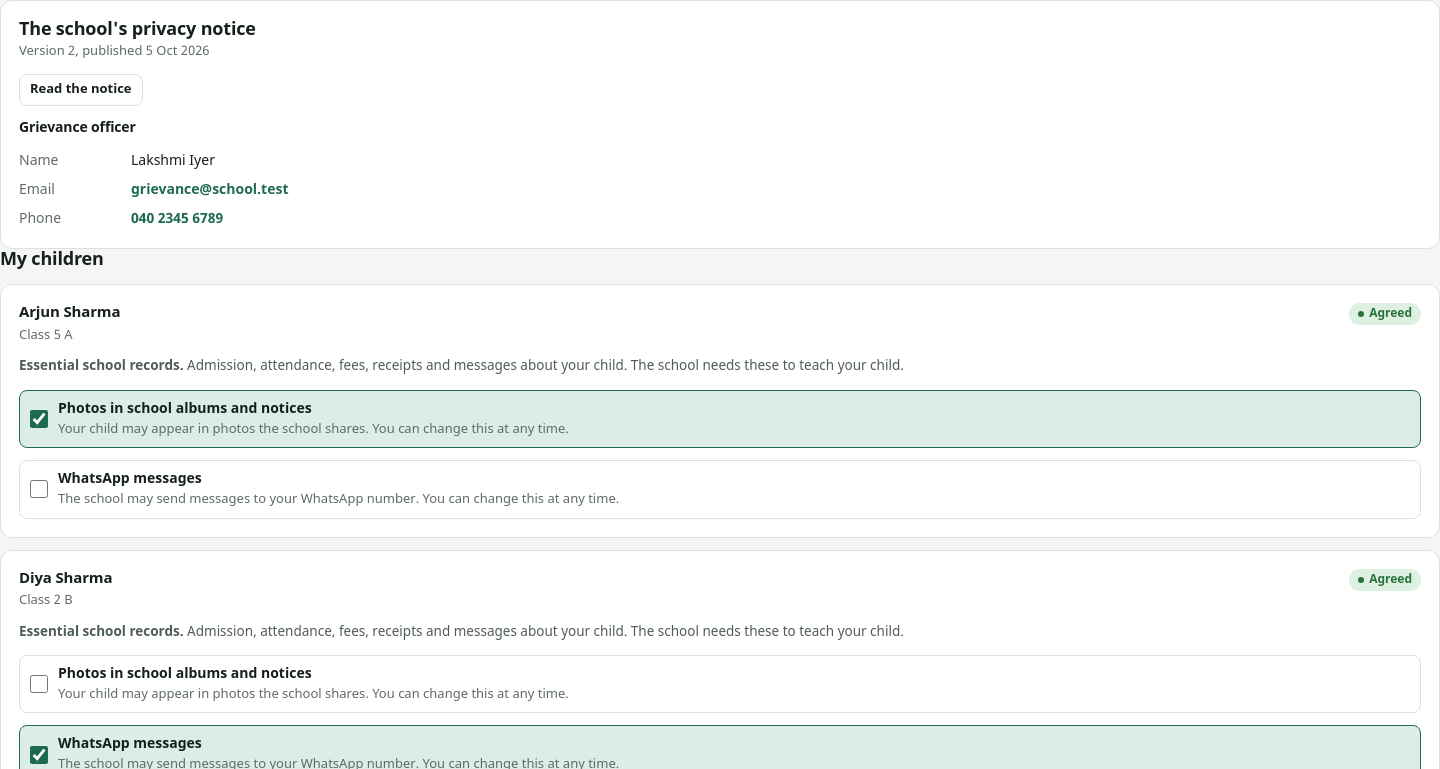
Test: MyPrivacyView › shows each child's choices and lets the parent withdraw one
Expected: the text "Agreed" in the row of "Arjun Sharma" is shown, 1369,306 -> 1412,322
Expected: the checkbox labelled "WhatsApp" below "Class 5 A" is not checked, 30,480 -> 48,498
Click the checkbox labelled "Photos in school albums" below "Class 5 A" at (39, 419), box 30,410 -> 48,428
(page scrolled)
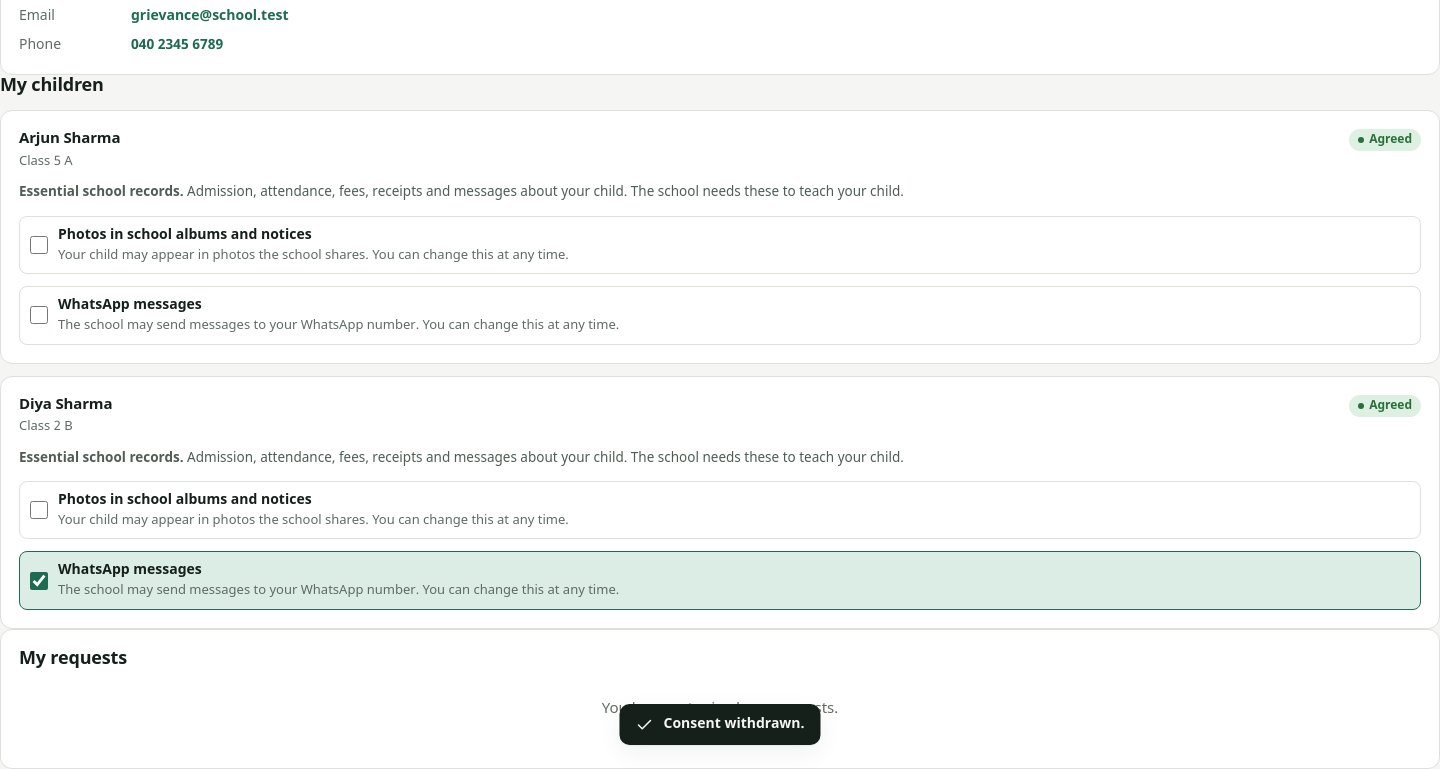
Expected: the text "You have not raised any requests." is shown, 602,700 -> 838,719
Now the checkbox labelled "Photos" below "Class 5 A" is not checked, box 30,236 -> 48,254
Now the text "Consent withdrawn." is shown, box 620,704 -> 820,745
